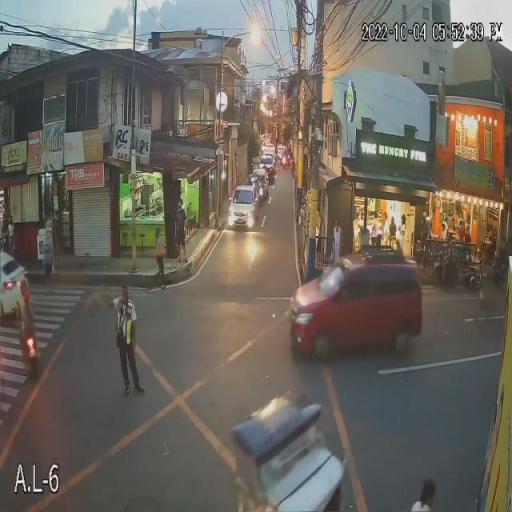helmet: (18, 279, 30, 306), (23, 292, 34, 307)
motorcycle: (18, 322, 40, 380)
rider: (13, 276, 28, 332), (21, 292, 38, 339)
